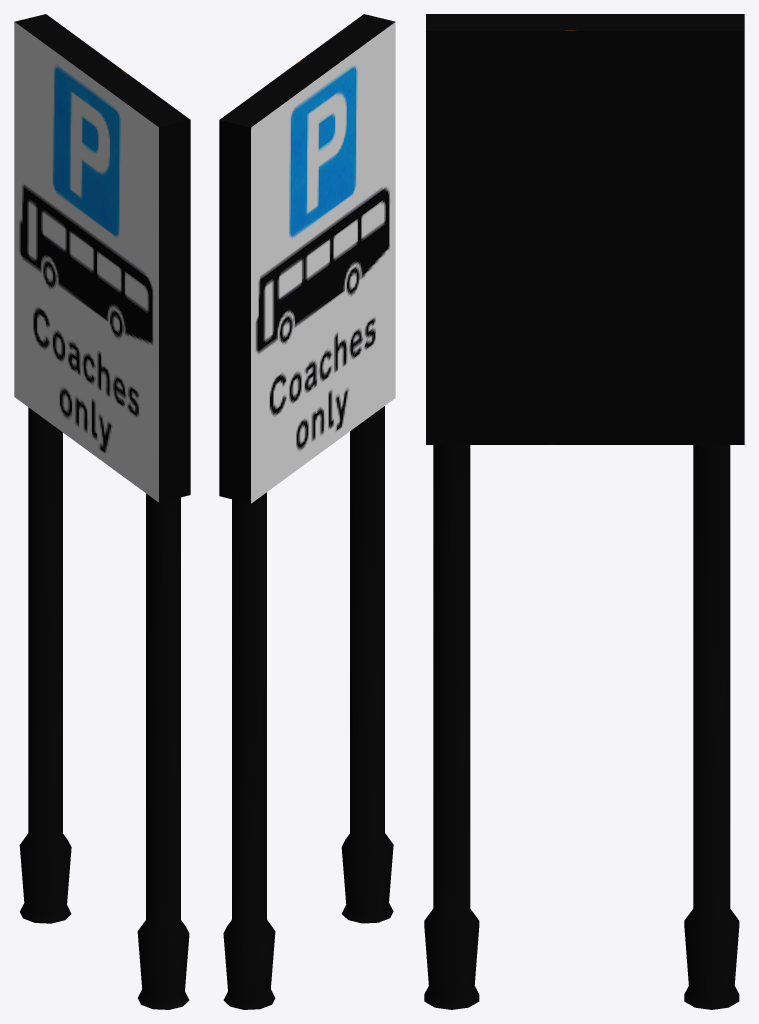
The picture shows the model from 3 angles, left to right: view 1: azimuth 30°, elevation 25°; view 2: azimuth 150°, elevation 25°; view 3: azimuth 270°, elevation 25°; orthographic projection. The views are drawn at different scales.
Parts seen in each view (by area): view 1: Cylinder002; view 2: Cylinder002; view 3: Cylinder002.
Part boxes in pixels (x1=…): Cylinder002: x1=14, y1=14, x2=190, y2=1009; Cylinder002: x1=219, y1=14, x2=395, y2=1009; Cylinder002: x1=424, y1=14, x2=744, y2=1009.
Bounding box in the file's own units: 1.42 × 26.53 × 7.89.
